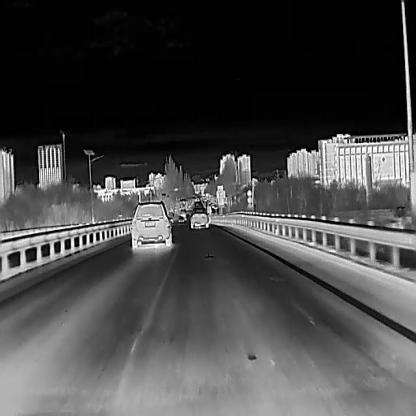car: (130, 198, 171, 247), (189, 206, 209, 228), (177, 214, 183, 221)
